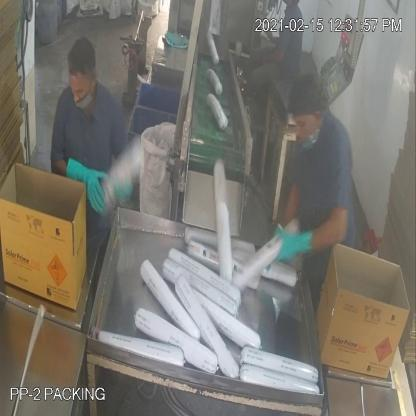glove: (64, 152, 112, 223), (268, 212, 319, 268)
